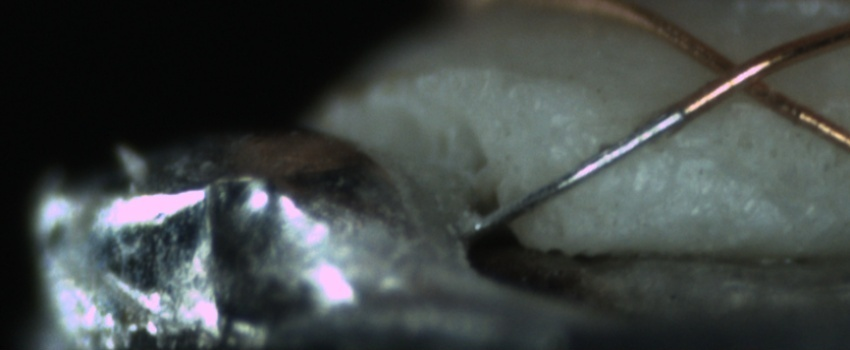CL: (694, 39, 789, 108)
TS: (458, 106, 686, 242)
